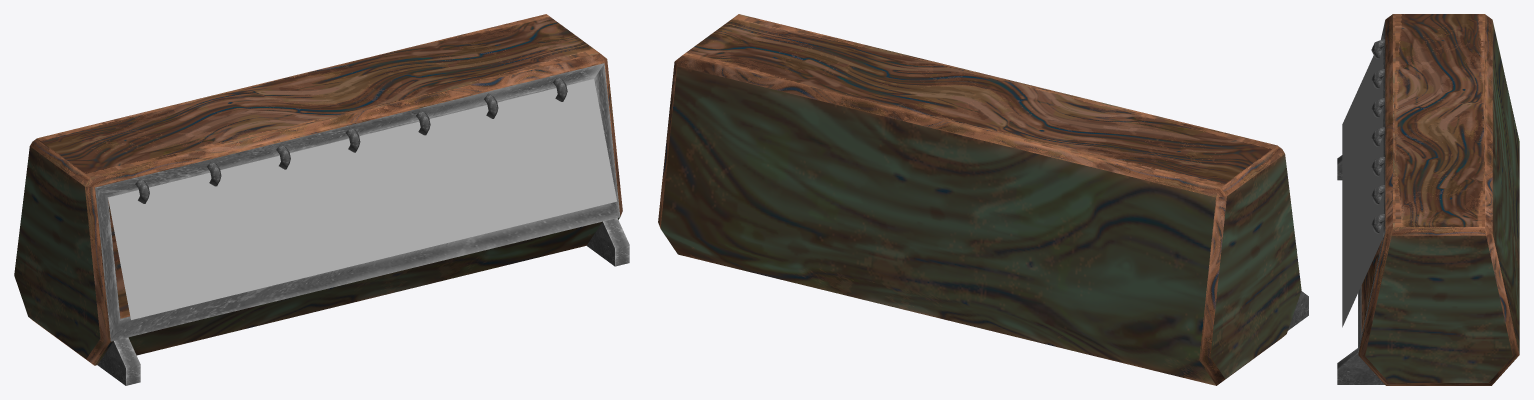
File: RoundCounter (FixedScale).fbx
3 renders of one model, left to right at view 1: azimuth 30°, elevation 25°; view 2: azimuth 150°, elevation 25°; view 3: azimuth 270°, elevation 25°, orthographic. The views are drawn at different scales.
Parts seen in each view (by area): view 1: RoundCounter; view 2: RoundCounter; view 3: RoundCounter.
Boxes of the visible parts, box(x1,y1,x2,y2) form: RoundCounter: box(14, 14, 629, 385); RoundCounter: box(658, 14, 1308, 385); RoundCounter: box(1337, 14, 1519, 385).
Bounding box in the file's own units: 590 × 200 × 208.
